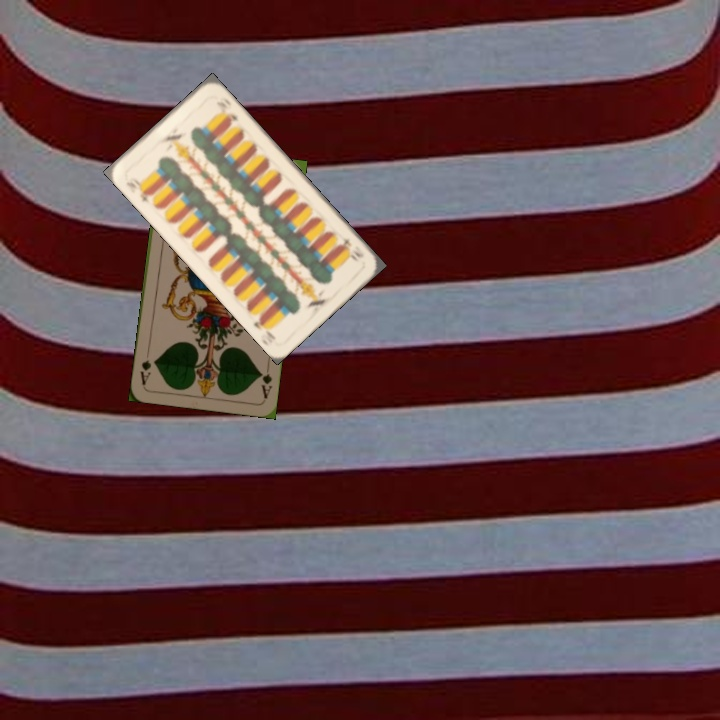E10: (336, 233, 367, 265), (122, 177, 154, 205)
GA: (256, 361, 275, 401)
